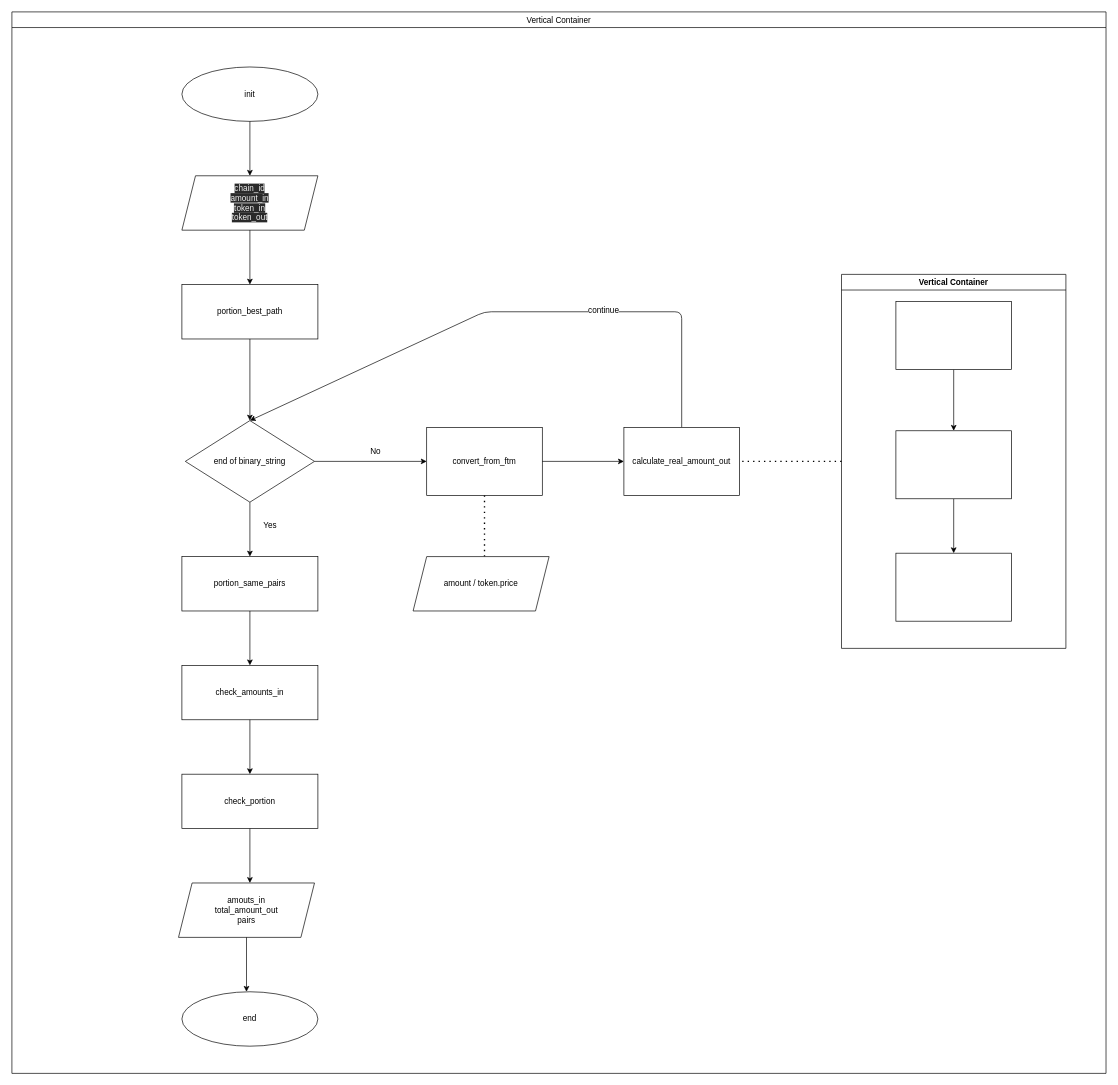
Some shapes in this 1118 by 1085 pixel diagram are drawn without their labels. Each missing label, with the centre of its shape:
burn_rate_amount_in: the point at 953,335
burn_rate_amount_out: the point at 953,586
find_pair_and_amount_out: the point at 953,464
